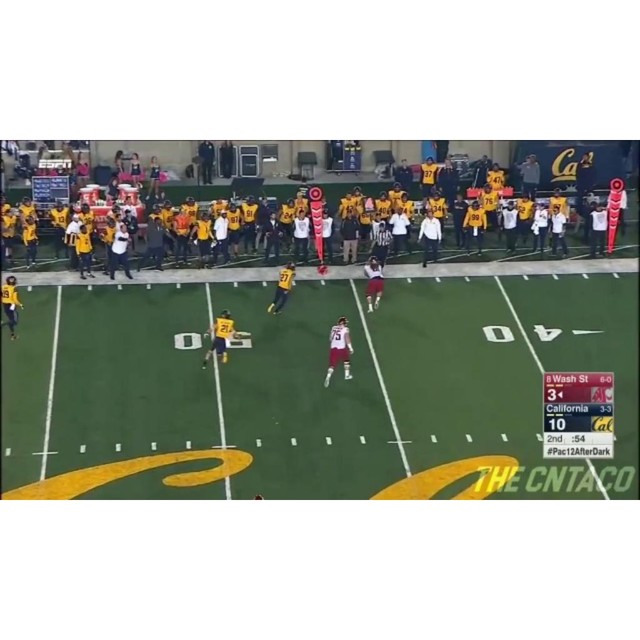american-football-player: (202, 309, 236, 370), (325, 316, 354, 387), (0, 275, 25, 340), (267, 260, 296, 315), (362, 256, 385, 313)
